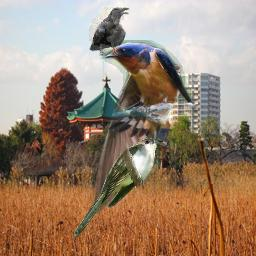Crow: (89, 7, 130, 56)
Cuckoo: (72, 137, 164, 240)
Swallow: (90, 40, 200, 214)
